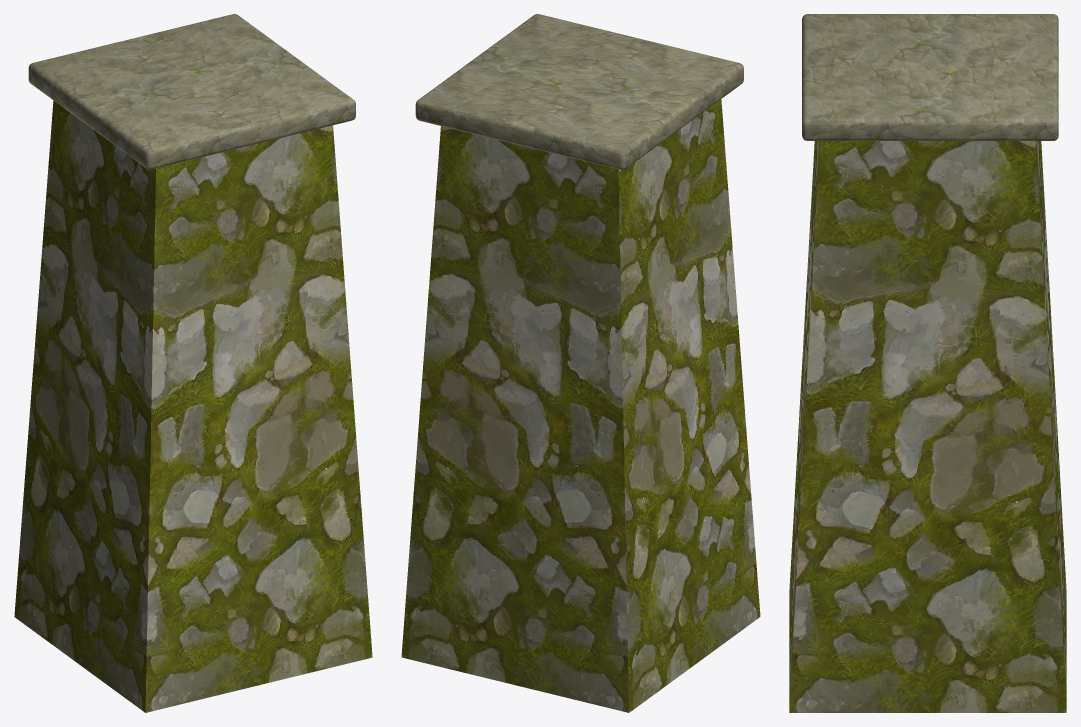
The model's file is Canto Muro.fbx.
The picture shows the model from 3 angles, left to right: view 1: azimuth 30°, elevation 25°; view 2: azimuth 150°, elevation 25°; view 3: azimuth 270°, elevation 25°; orthographic projection. The views are drawn at different scales.
Parts seen in each view (by area): view 1: Cube.020; view 2: Cube.020; view 3: Cube.020.
Part boxes in pixels (x1,y1,x2,y2): Cube.020: [14, 14, 372, 712]; Cube.020: [401, 14, 760, 712]; Cube.020: [789, 14, 1066, 712].
Size of the model in its own units: 90.98 by 213 by 90.98.
